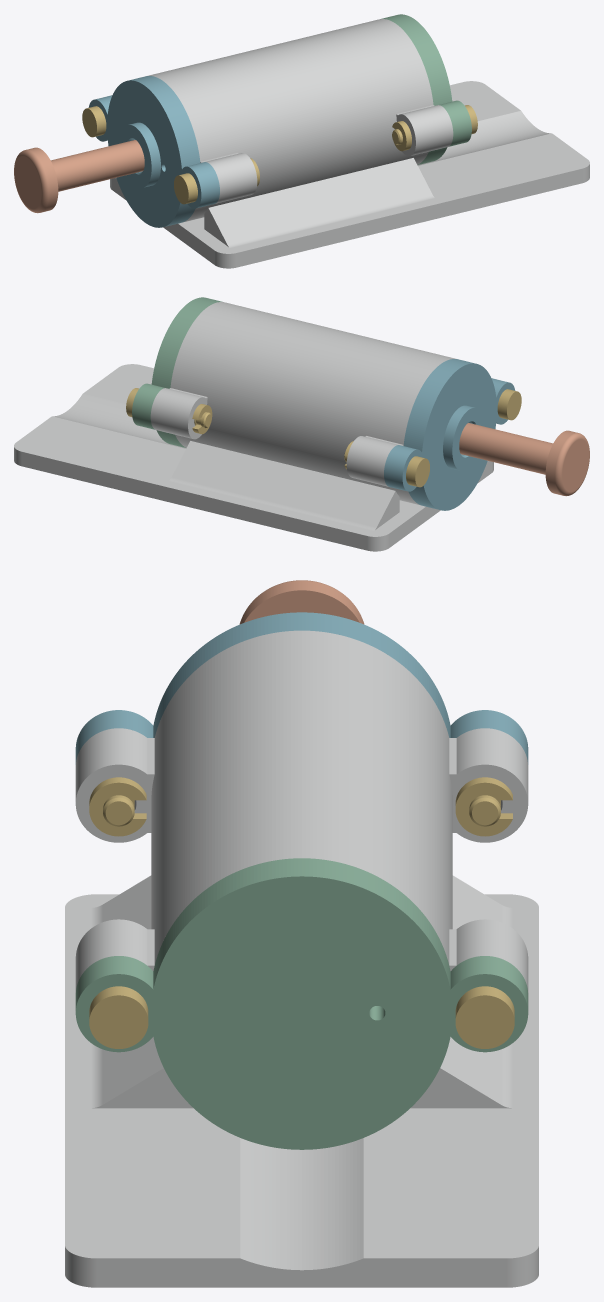
Rendered from assembly.glb.
3 views of the same model, one above another, from view 1: azimuth 30°, elevation 25°; view 2: azimuth 150°, elevation 25°; view 3: azimuth 270°, elevation 25° (orthographic). The views are drawn at different scales.
Parts seen in each view (by area): view 1: housing, front_cap, plunger, rear_cap, front_pin_right, front_pin_left, rear_clip_left, rear_pin_left; view 2: housing, front_cap, plunger, rear_cap, front_pin_right, front_pin_left, rear_pin_right; view 3: housing, rear_cap, front_cap, plunger, rear_pin_right, rear_pin_left, front_clip_right, front_clip_left.
Boxes of the visible parts, x1=… form: housing: x1=110, y1=19, x2=589, y2=268; front_cap: x1=88, y1=76, x2=219, y2=227; plunger: x1=14, y1=140, x2=144, y2=213; rear_cap: x1=381, y1=14, x2=471, y2=164; front_pin_right: x1=82, y1=106, x2=106, y2=137; front_pin_left: x1=174, y1=170, x2=259, y2=204; rear_clip_left: x1=392, y1=121, x2=411, y2=151; rear_pin_left: x1=392, y1=105, x2=477, y2=144; housing: x1=14, y1=302, x2=493, y2=551; front_cap: x1=384, y1=359, x2=515, y2=510; plunger: x1=459, y1=423, x2=589, y2=496; rear_cap: x1=132, y1=297, x2=222, y2=447; front_pin_right: x1=344, y1=453, x2=429, y2=487; front_pin_left: x1=497, y1=389, x2=521, y2=420; rear_pin_right: x1=126, y1=388, x2=211, y2=427; housing: x1=65, y1=630, x2=538, y2=1287; rear_cap: x1=75, y1=858, x2=528, y2=1149; front_cap: x1=75, y1=612, x2=528, y2=764; plunger: x1=239, y1=580, x2=364, y2=624; rear_pin_right: x1=455, y1=986, x2=514, y2=1048; rear_pin_left: x1=89, y1=986, x2=148, y2=1048; front_clip_right: x1=455, y1=777, x2=512, y2=836; front_clip_left: x1=89, y1=777, x2=146, y2=836.
Bounding box in the file's own units: 0.109 × 0.03 × 0.044.
